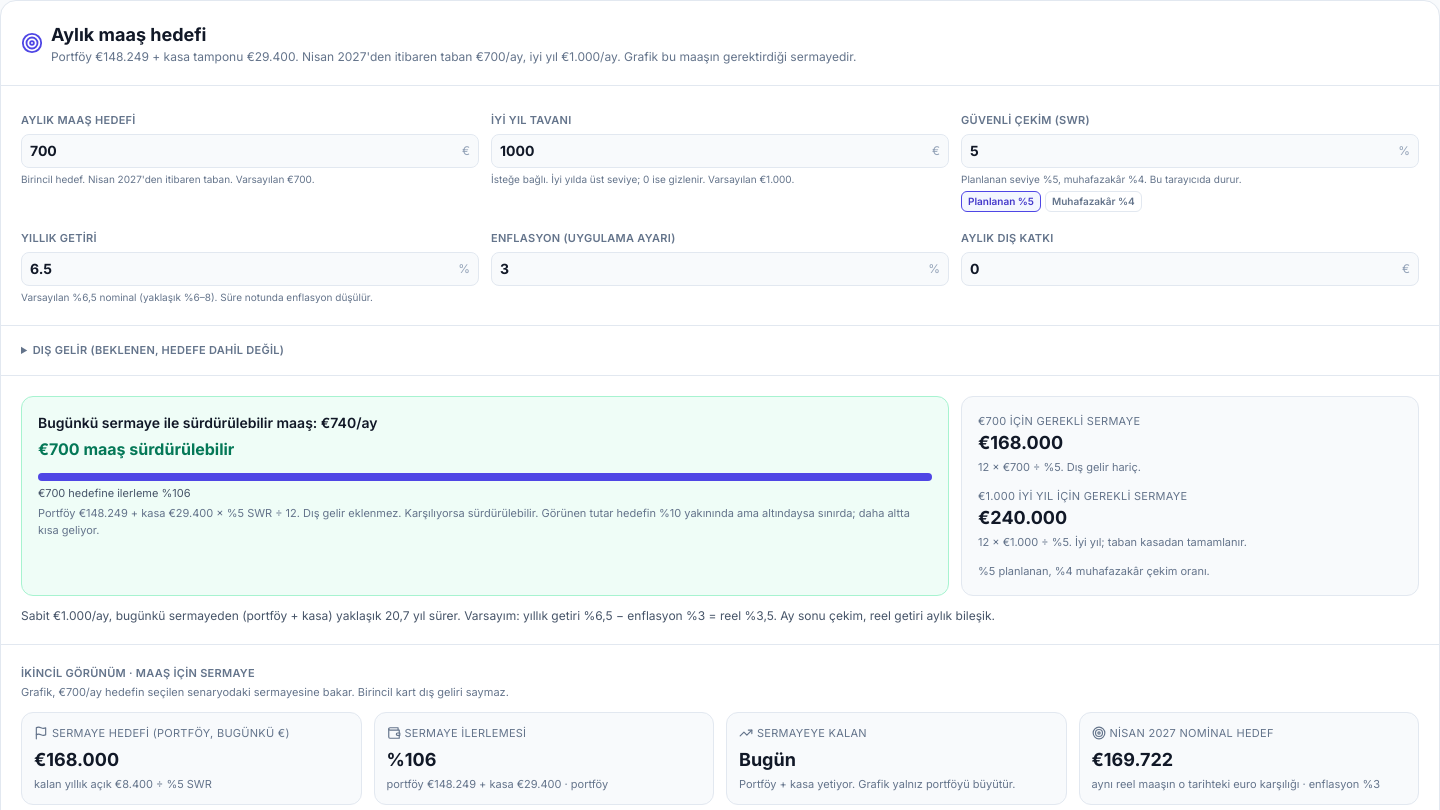
Hedef aylık maaş › muhafazakâr %4 sermayeyi yeniler ve tarayıcı kaydına yazılır
Expected: the heading "Aylık maaş hedefi" is shown, [51,24,206,45]
Click the button "Muhafazakâr %4" at x=1093, y=202, box [1045,191,1142,212]
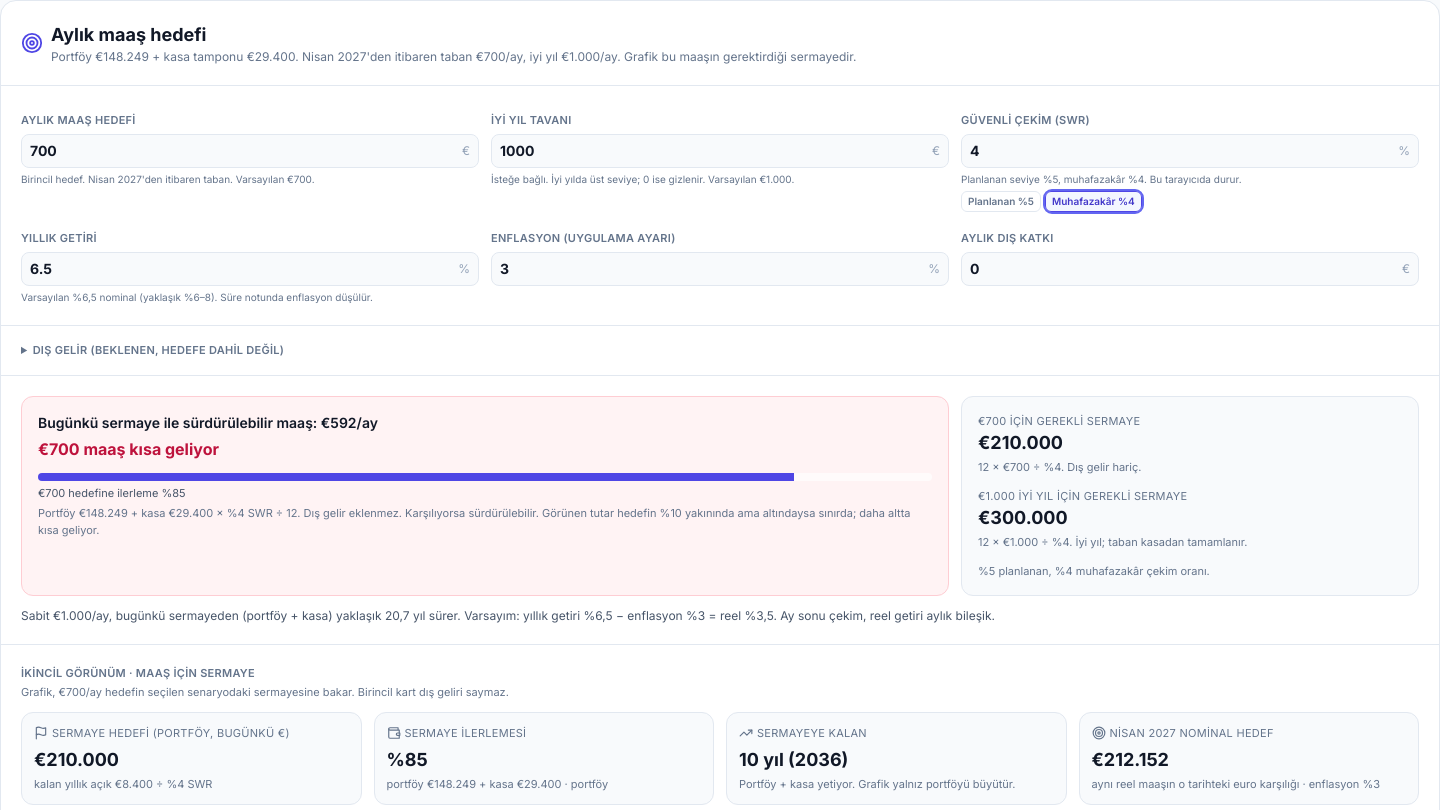
Expected: the number field labelled "Güvenli çekim (SWR)" holds "4", [970,141,1394,161]
Expected: the text "€300.000" is shown, [978,507,1068,528]
Expected: the text "€700 maaş kısa geliyor" is shown, [38,438,219,458]
